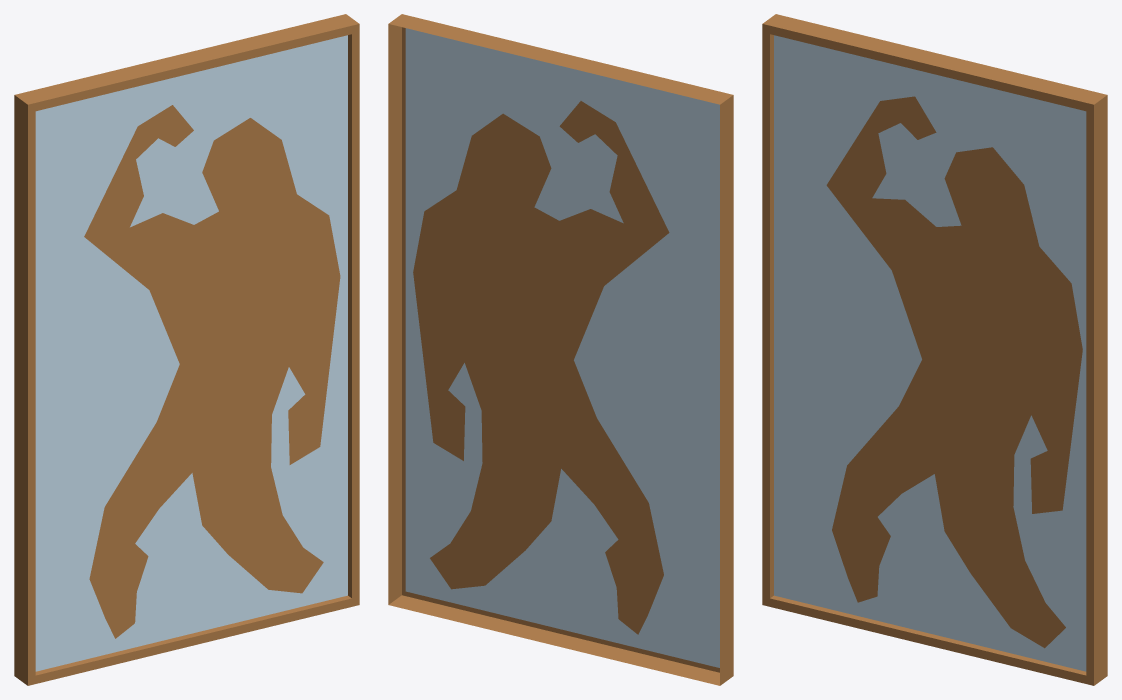
The model's file is 6 picture.fbx.
3 renders of one model, left to right at view 1: azimuth 30°, elevation 25°; view 2: azimuth 150°, elevation 25°; view 3: azimuth 330°, elevation 25°, orthographic.
Visible parts, largest first — view 1: 5 picture; view 2: 5 picture; view 3: 5 picture.
Part boxes in pixels (x1=…): 5 picture: x1=14, y1=14, x2=359, y2=685; 5 picture: x1=388, y1=14, x2=733, y2=685; 5 picture: x1=762, y1=14, x2=1107, y2=685.
Size of the model in its own units: 27.1 by 45.38 by 1.9.
